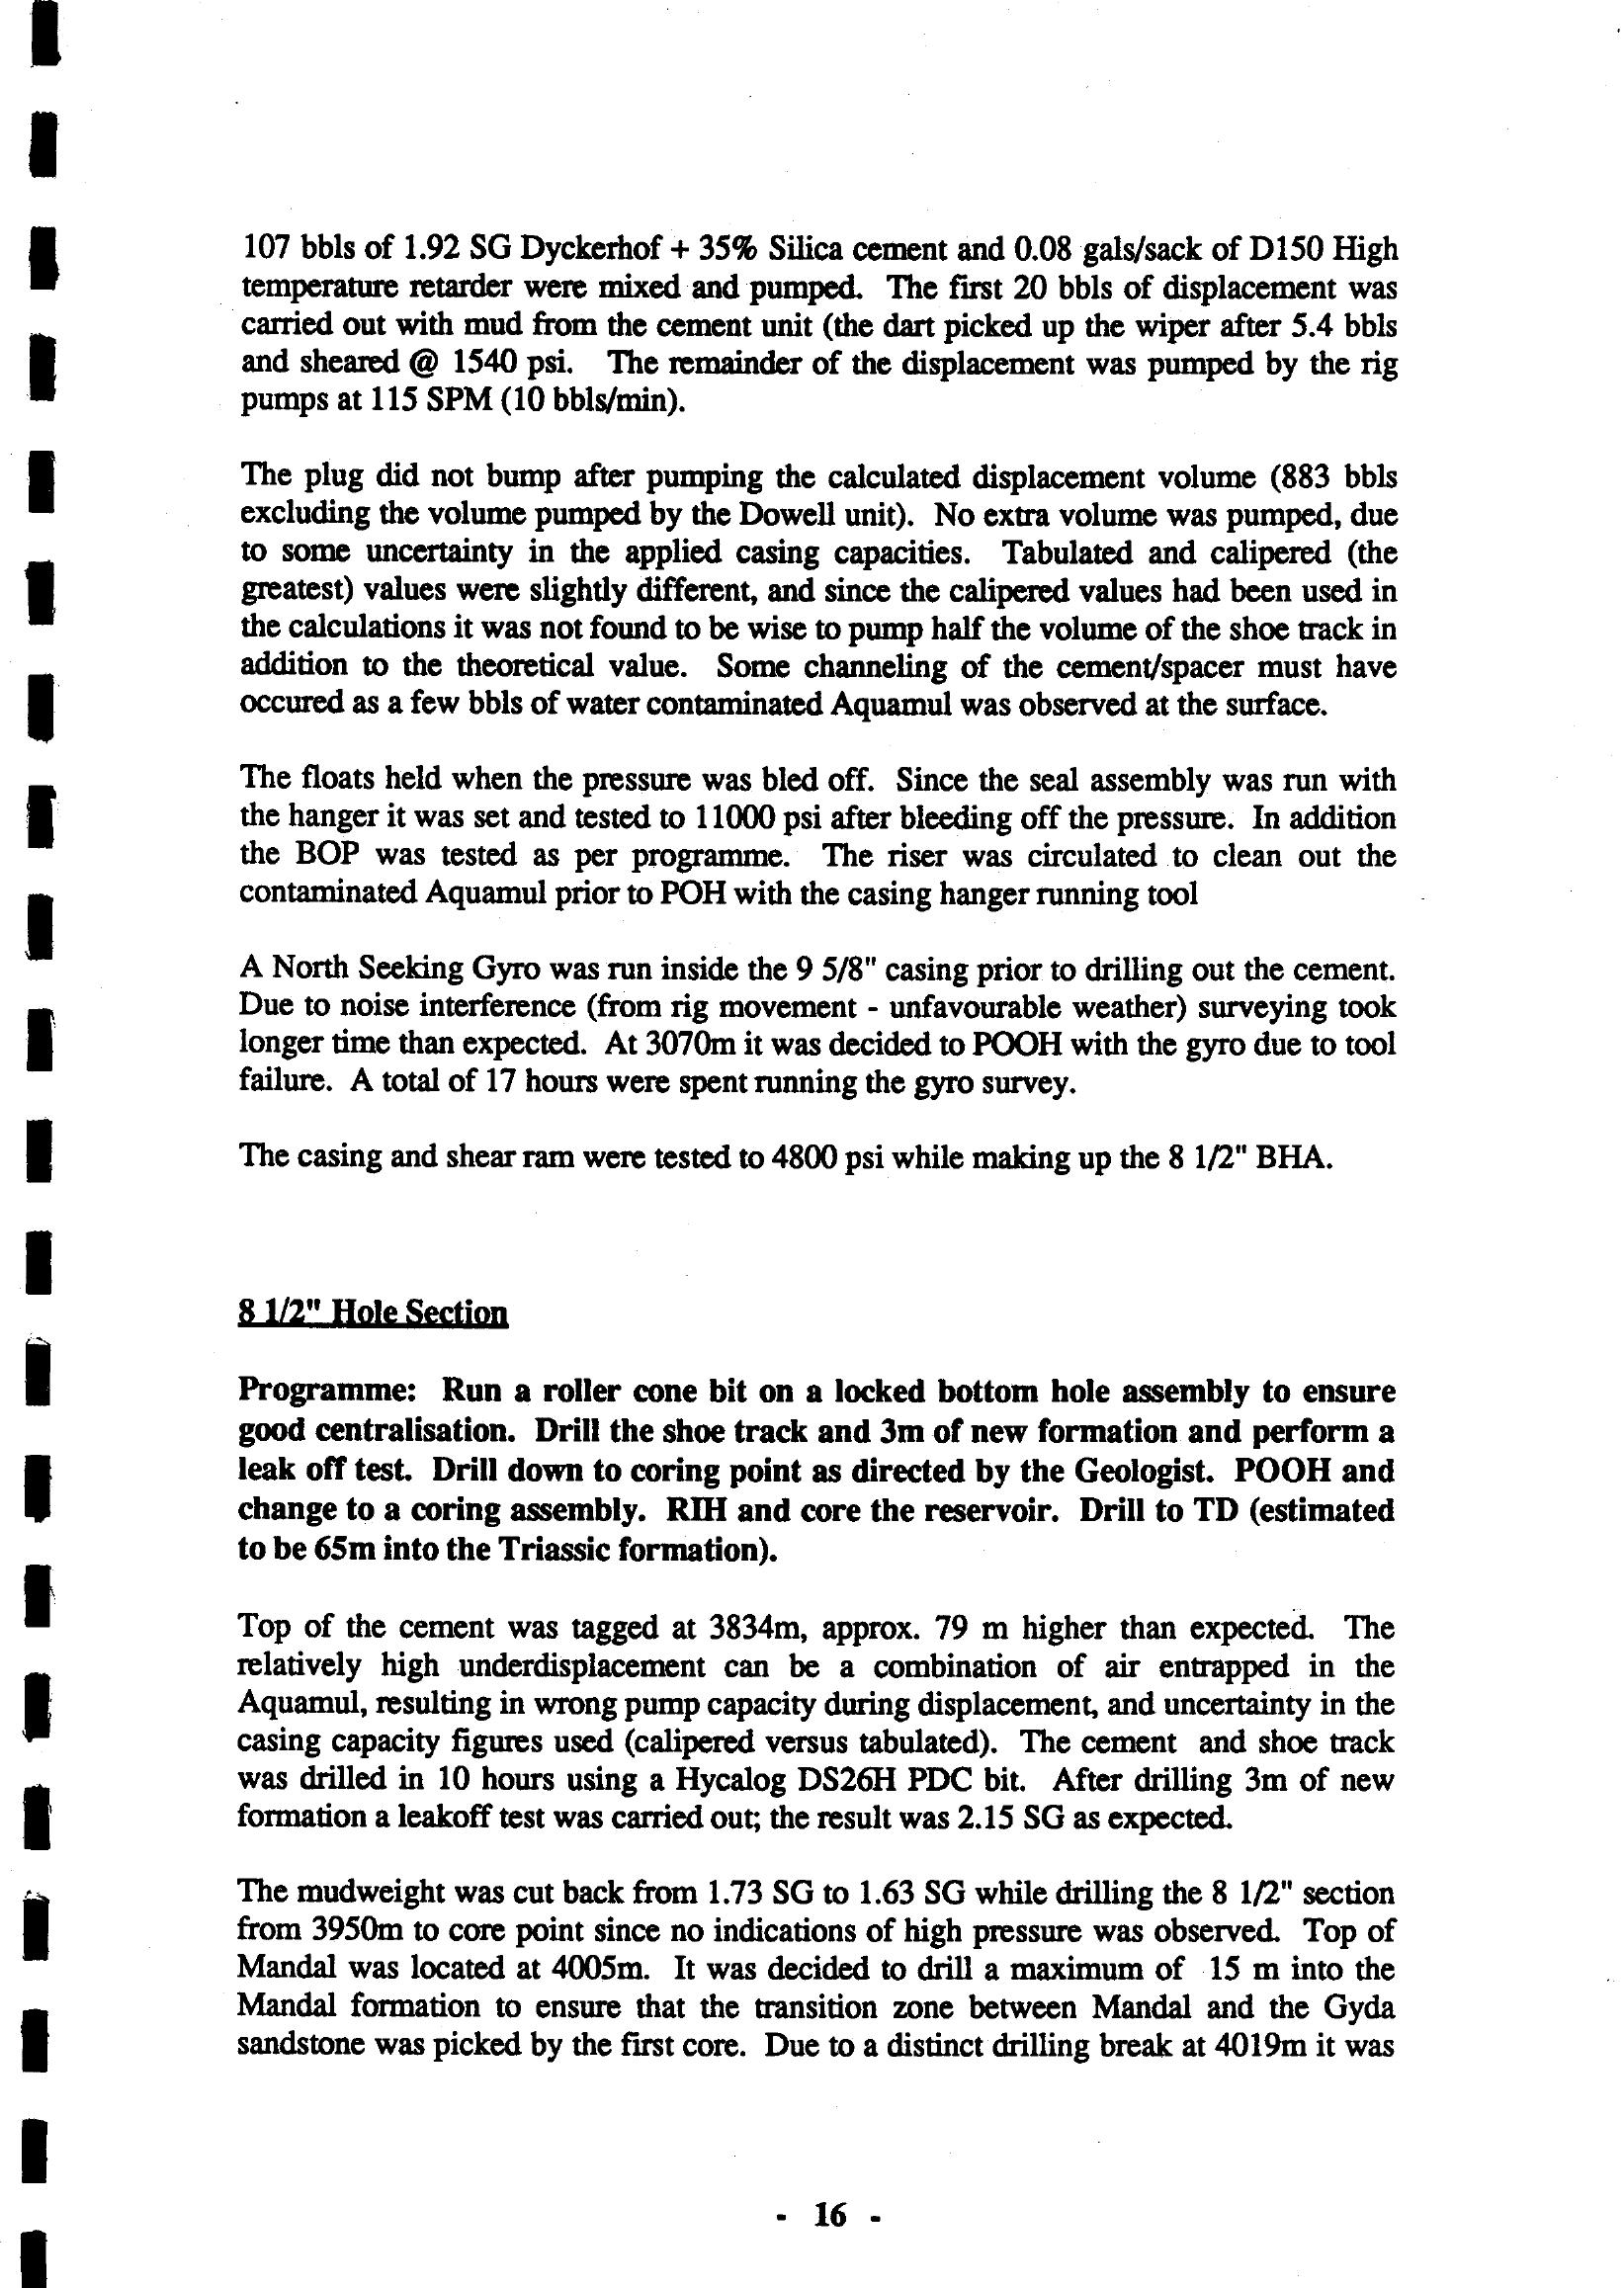text: (188, 197, 1445, 2126)
